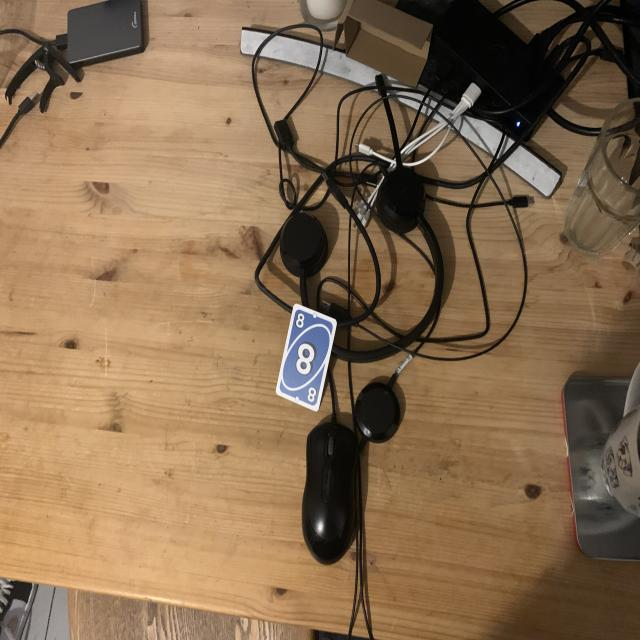lblue-8: (292, 312, 308, 332)
